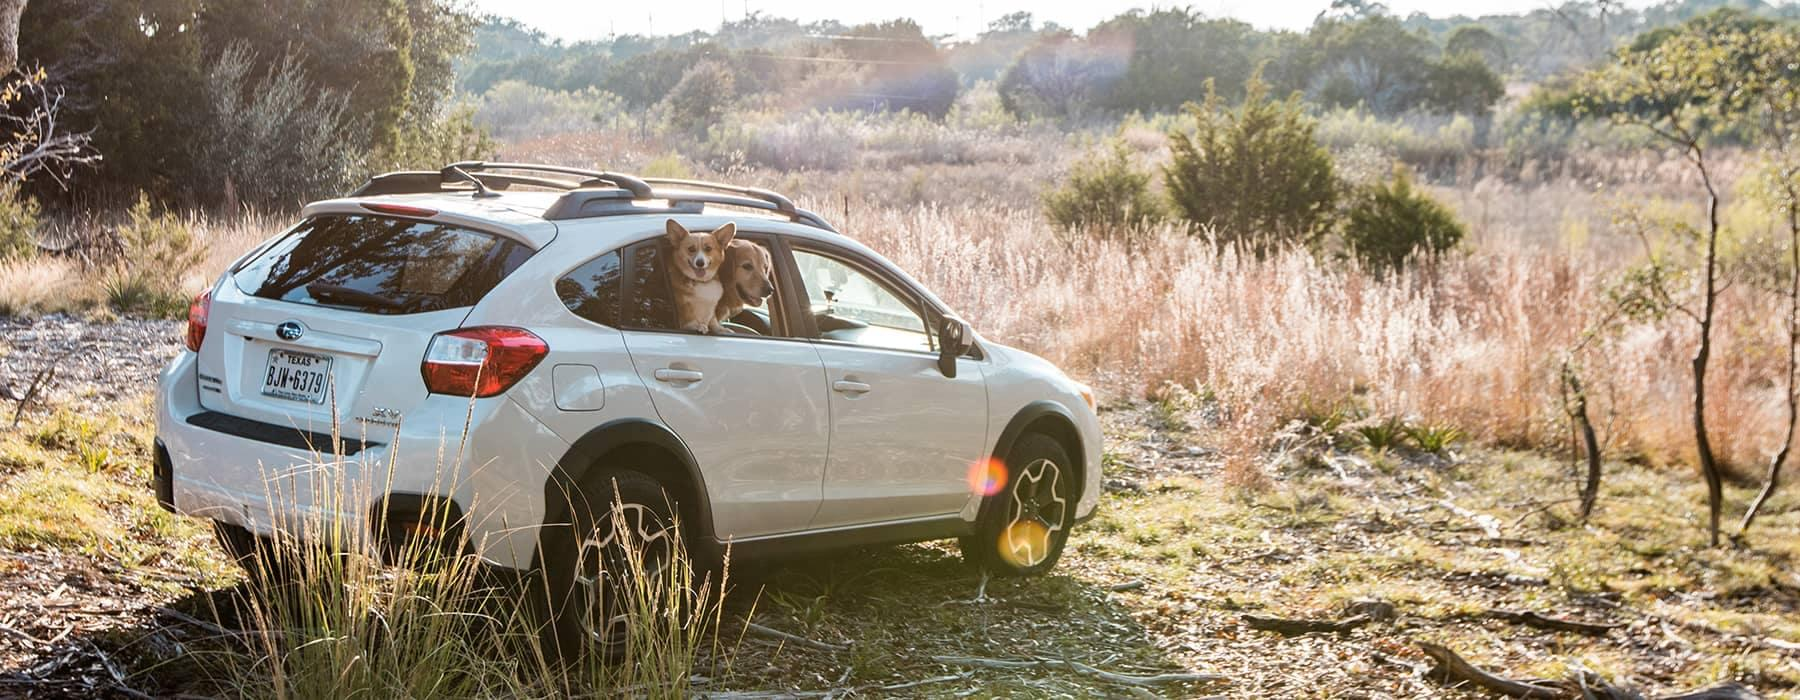subaru: (271, 309, 316, 357)
